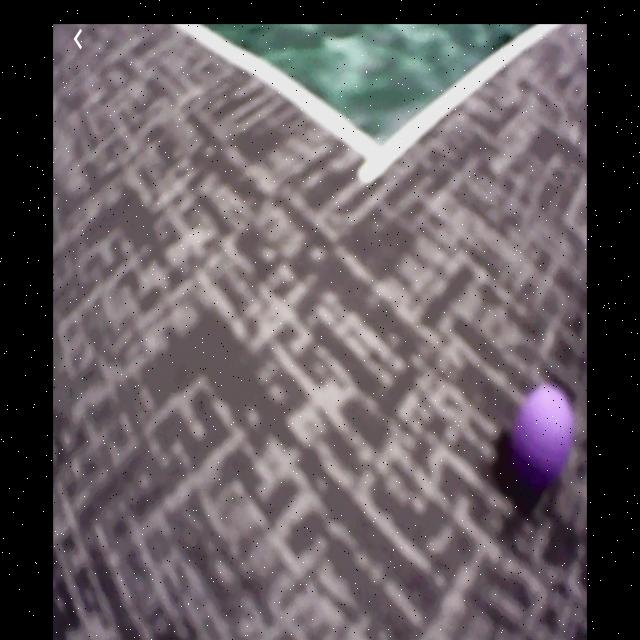ball: (514, 387, 575, 488)
